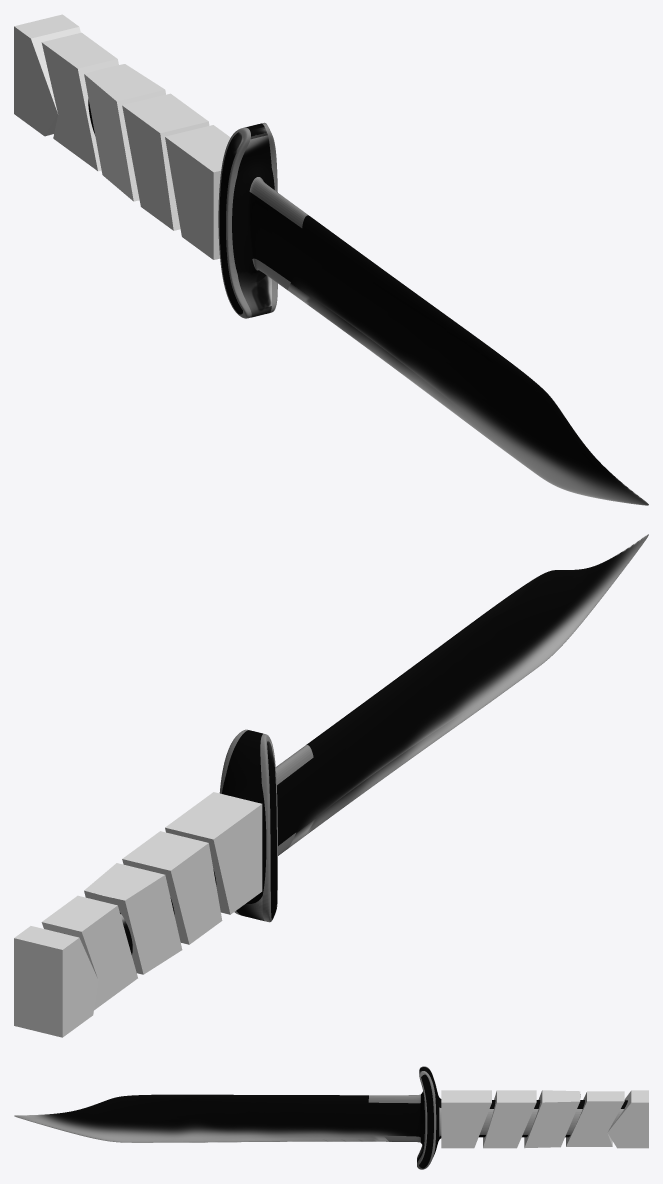
The model's file is pisau.fbx.
3 views of the same model, one above another, from view 1: azimuth 30°, elevation 25°; view 2: azimuth 150°, elevation 25°; view 3: azimuth 270°, elevation 25° (orthographic). The views are drawn at different scales.
Visible parts, largest first — view 1: Cube, Cube.001; view 2: Cube, Cube.001; view 3: Cube, Cube.001.
Part boxes in pixels (x1,y1,x2,y2): Cube: (88, 99, 648, 505); Cube.001: (14, 14, 230, 259); Cube: (120, 534, 648, 954); Cube.001: (14, 792, 262, 1037); Cube: (14, 1066, 627, 1169); Cube.001: (441, 1090, 648, 1148).
Bounding box in the file's own units: 29.6 × 103 × 612.
1 material, 1 textured.
